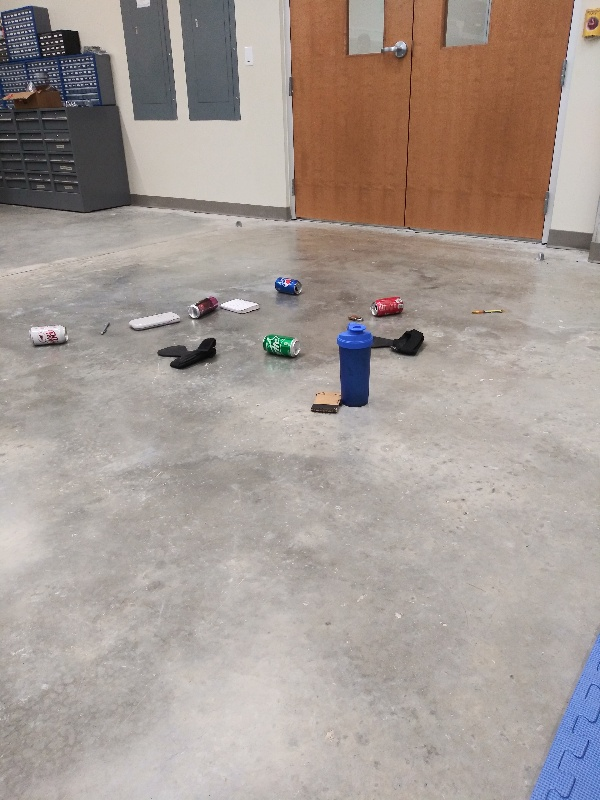can: (28, 322, 73, 348), (187, 293, 225, 321), (261, 334, 304, 358), (366, 293, 408, 317), (271, 274, 305, 298)
